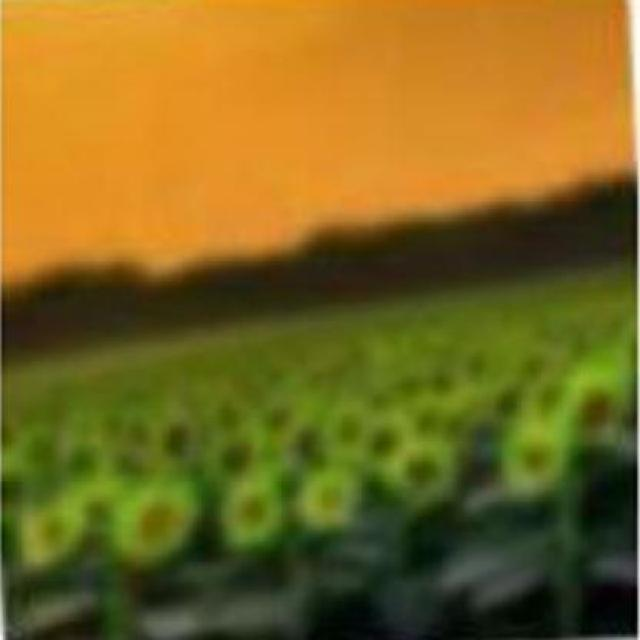sunflower: (117, 483, 189, 566), (383, 436, 458, 510)
